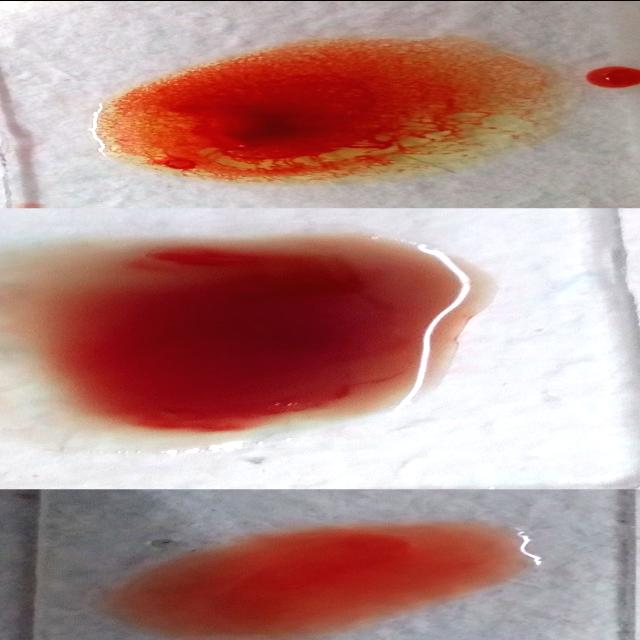B: (93, 38, 566, 182)
